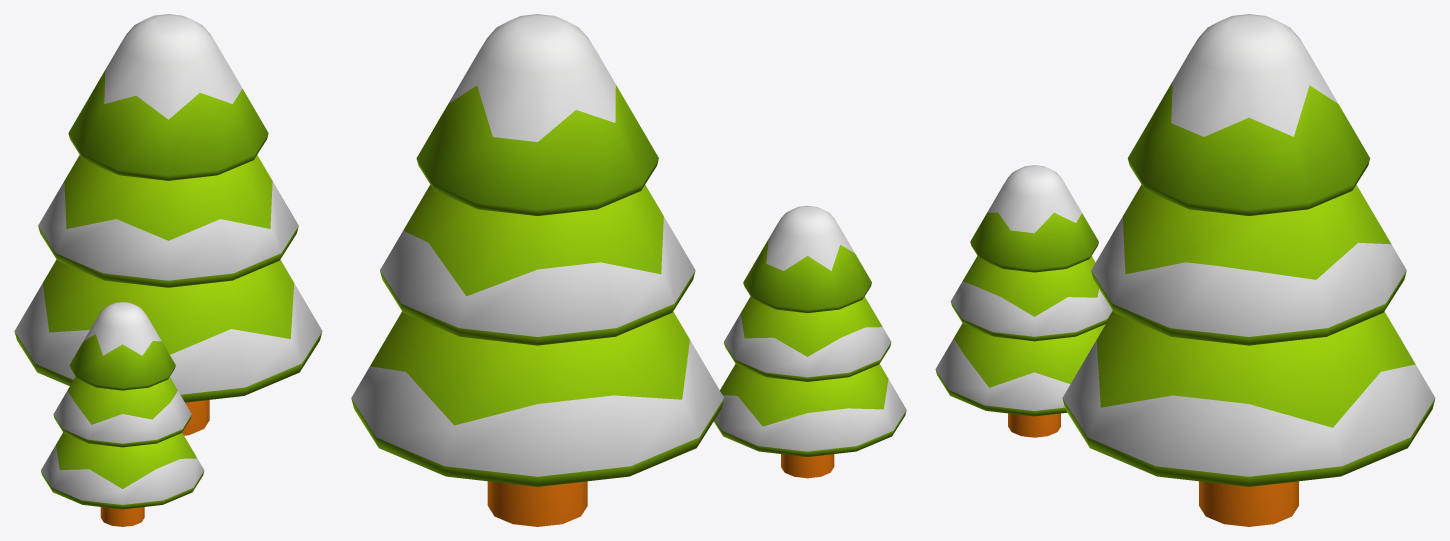
The model's file is Plant_Pine_Ice_01A.glb.
3 renders of one model, left to right at view 1: azimuth 30°, elevation 25°; view 2: azimuth 150°, elevation 25°; view 3: azimuth 270°, elevation 25°, orthographic. The views are drawn at different scales.
Parts seen in each view (by area): view 1: Plant_Pine_Ice_01A; view 2: Plant_Pine_Ice_01A; view 3: Plant_Pine_Ice_01A.
Part boxes in pixels (<box>): Plant_Pine_Ice_01A: <box>14,14,322,526</box>; Plant_Pine_Ice_01A: <box>351,14,906,526</box>; Plant_Pine_Ice_01A: <box>935,14,1435,526</box>.
Bounding box in the file's own units: 1.71 × 1.92 × 1.81.
Materials: 1 (1 with a texture image).
